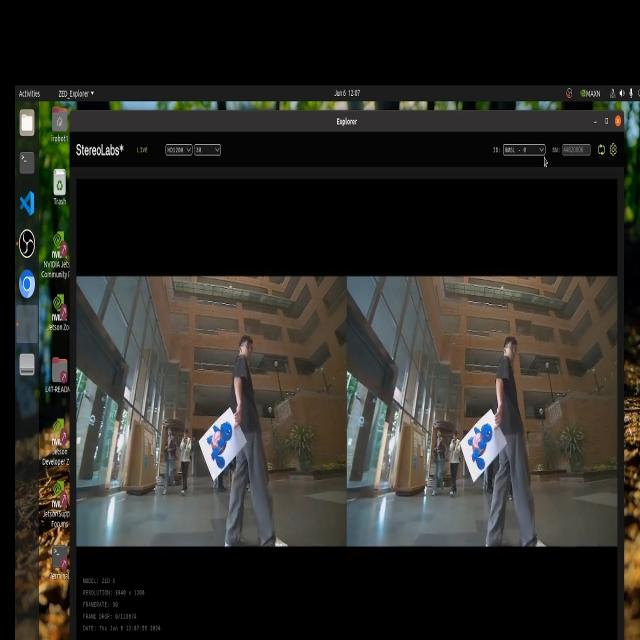blue: (206, 417, 235, 471), (466, 415, 491, 469)
